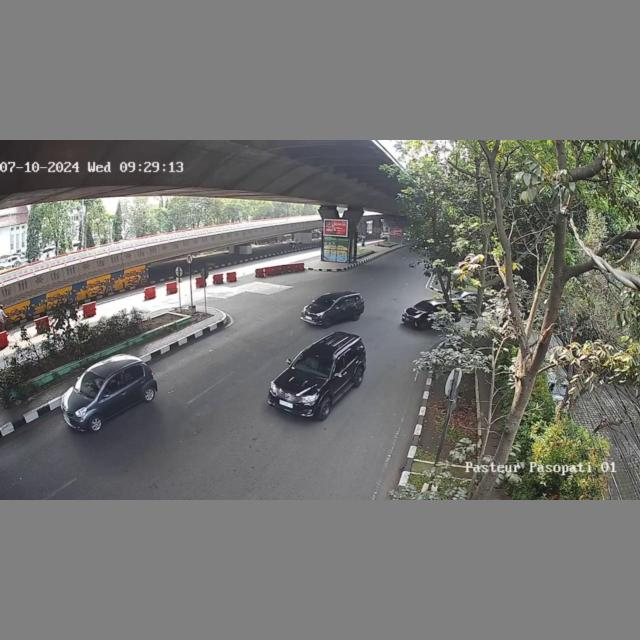windshield: (290, 347, 343, 376), (72, 373, 105, 395), (311, 295, 336, 308)
